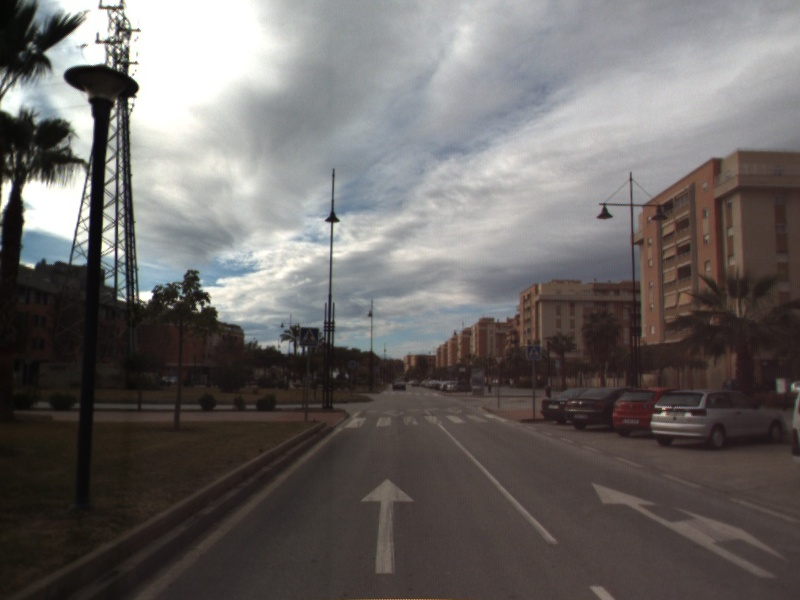STRAIGHT: (358, 476, 417, 576)
STRAIGHT_RIGHT: (589, 480, 791, 580)
